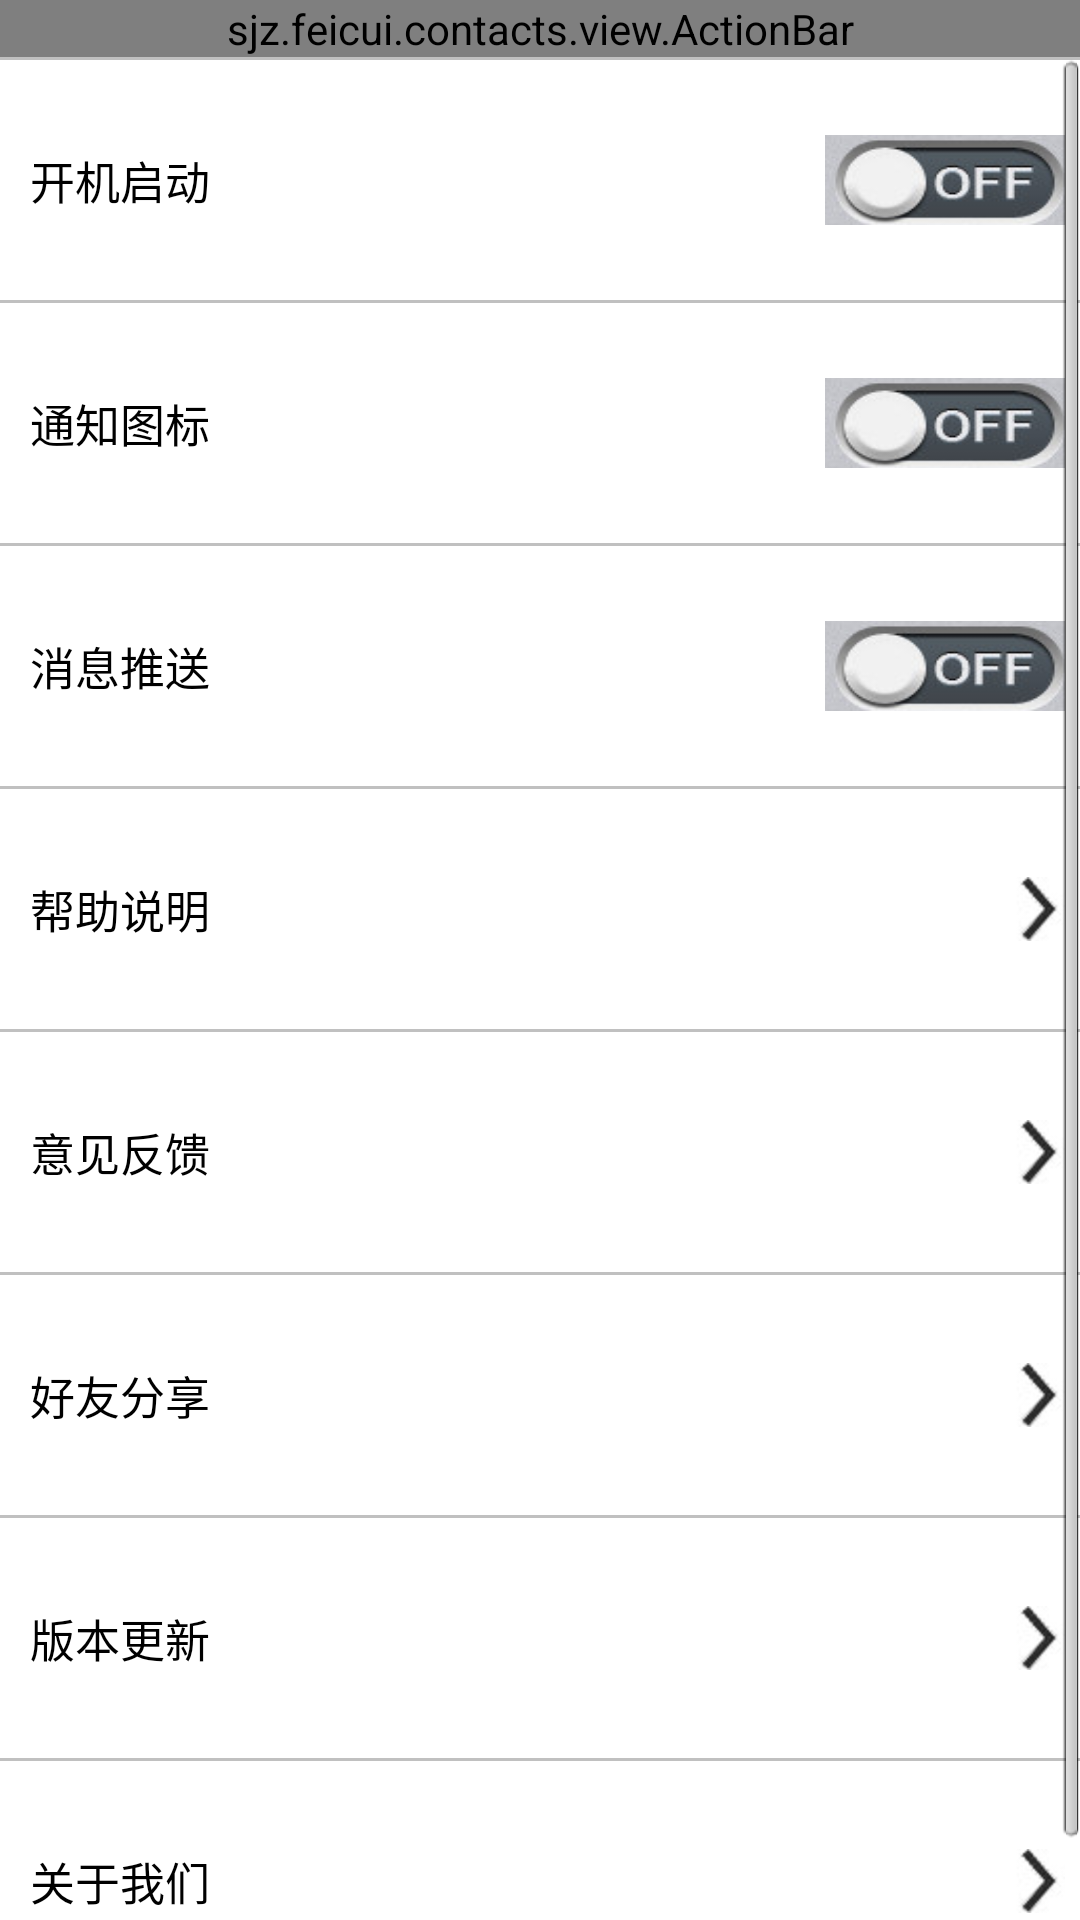

Screen size 1080×1920. Icon name, then its box in pixels as (x1, y1, x2, y2):
arrows right: (1021, 877, 1057, 941), (1021, 1120, 1057, 1184), (1021, 1363, 1057, 1427), (1021, 1606, 1057, 1670), (1021, 1849, 1057, 1913)
